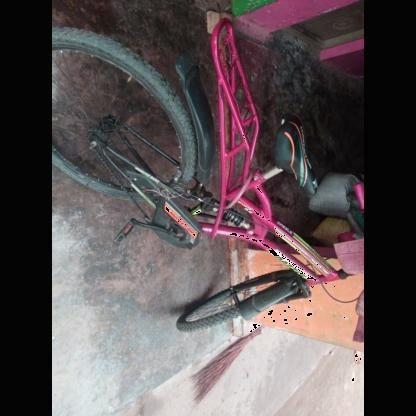Bicycle: (46, 2, 362, 333)
